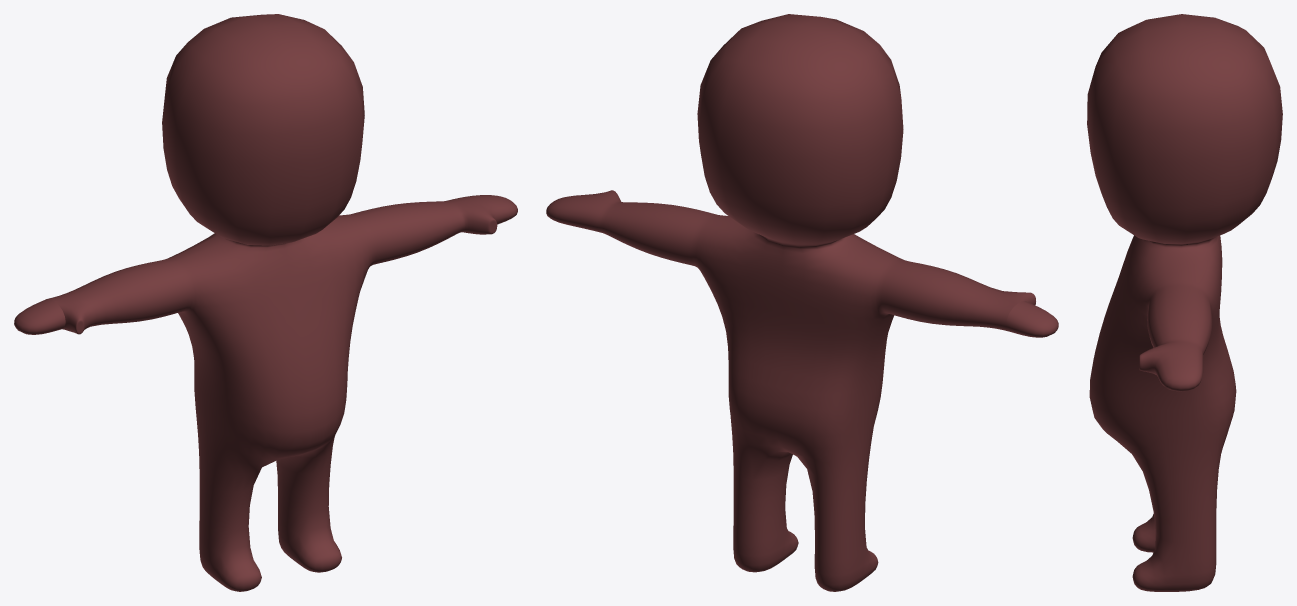
The model's file is Dev.fbx.
3 renders of one model, left to right at view 1: azimuth 30°, elevation 25°; view 2: azimuth 150°, elevation 25°; view 3: azimuth 270°, elevation 25°, orthographic.
Visible parts, largest first — view 1: Cube; view 2: Cube; view 3: Cube.
Part boxes in pixels (x1,y1,x2,y2): Cube: [14, 14, 517, 591]; Cube: [546, 14, 1058, 591]; Cube: [1087, 14, 1282, 591].
Size of the model in its own units: 926 by 962 by 315.
